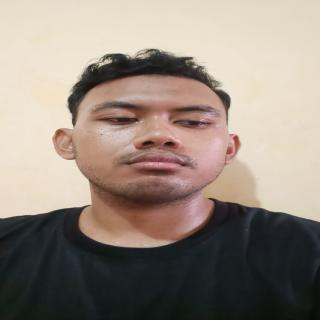Sedih: (66, 70, 237, 207)
